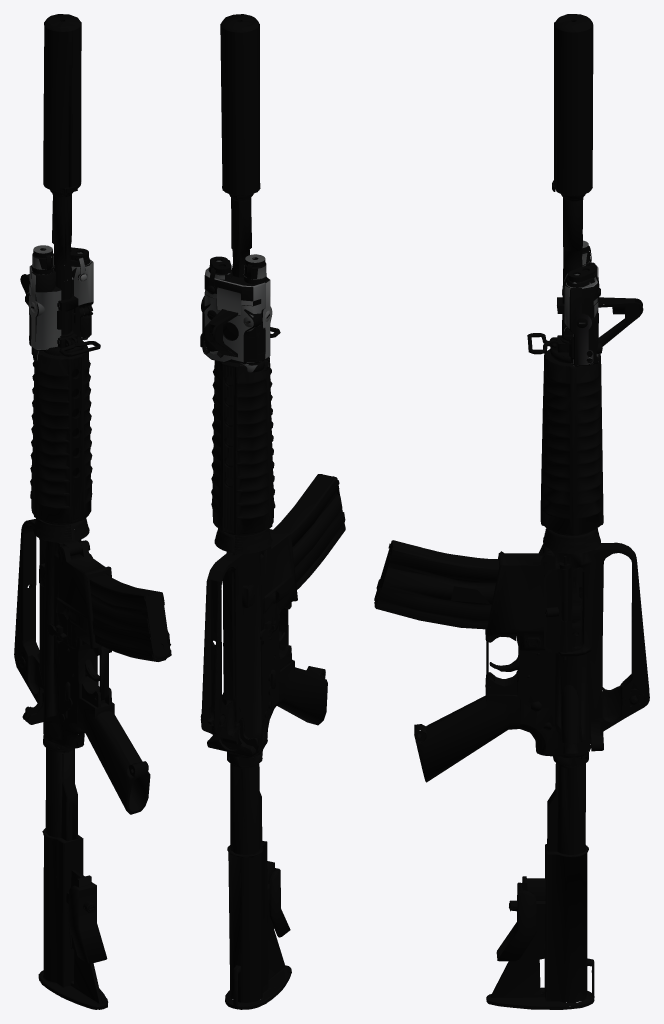
The model's file is M4A1S__Laser_Rifle.fbx.
3 views of the same model, side by side, from view 1: azimuth 30°, elevation 25°; view 2: azimuth 150°, elevation 25°; view 3: azimuth 270°, elevation 25° (orthographic). The views are drawn at different scales.
Visible parts, largest first — view 1: asset_M4A1S.001; view 2: asset_M4A1S.001; view 3: asset_M4A1S.001.
Part boxes in pixels (x1=…): asset_M4A1S.001: x1=14, y1=14, x2=171, y2=1009; asset_M4A1S.001: x1=200, y1=14, x2=345, y2=1009; asset_M4A1S.001: x1=374, y1=14, x2=649, y2=1009.
Size of the model in its own units: 0.029 by 0.444 by 0.113.
